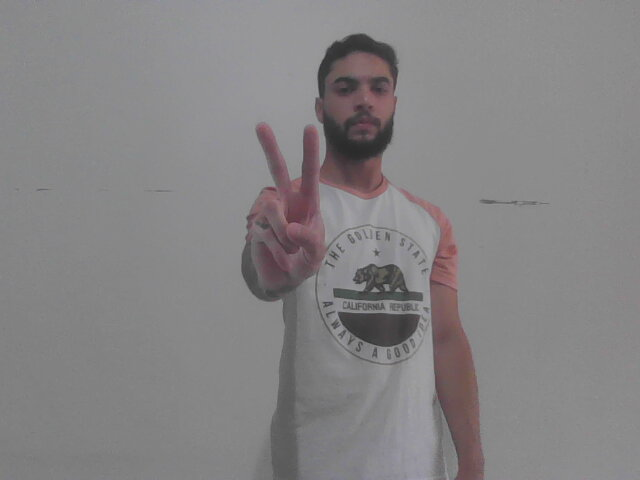v: (246, 115, 328, 296)
